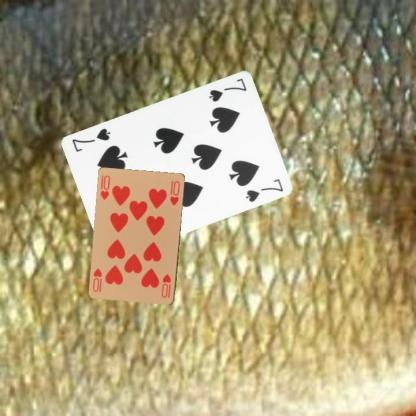10h: (98, 172, 112, 202), (159, 272, 172, 299)
7s: (206, 75, 248, 103)
